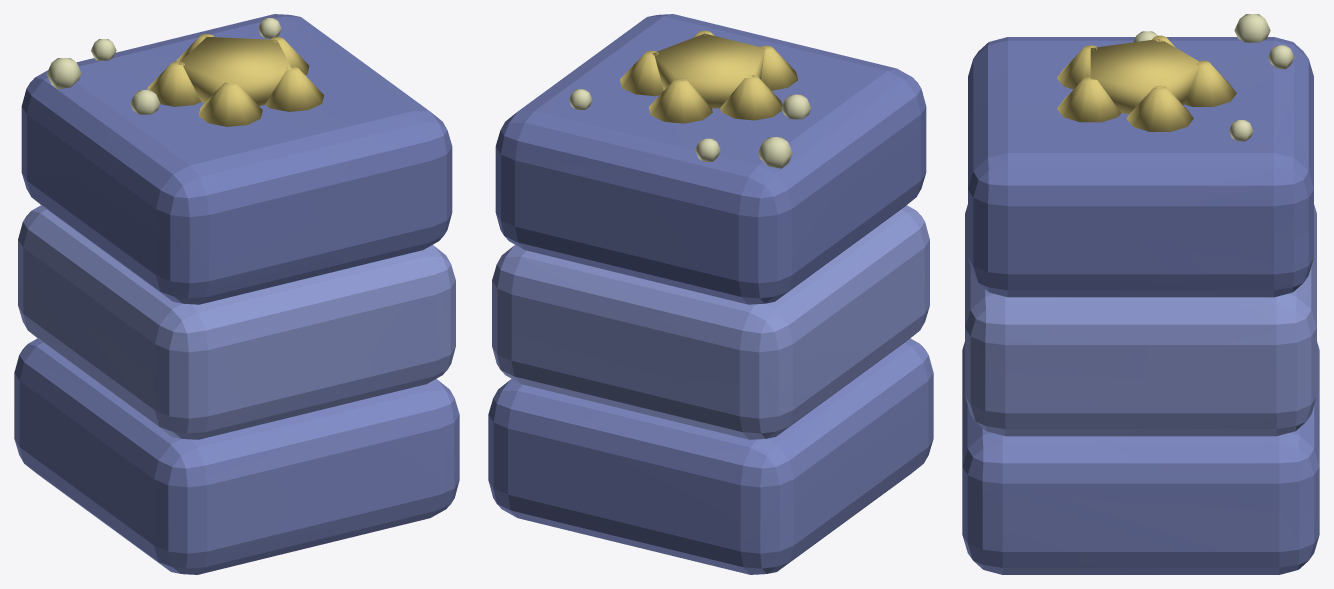
File: gym_wall_temple_lite.glb
3 views of the same model, side by side, from view 1: azimuth 30°, elevation 25°; view 2: azimuth 150°, elevation 25°; view 3: azimuth 270°, elevation 25° (orthographic). The views are drawn at different scales.
Visible parts, largest first — view 1: Cube; view 2: Cube; view 3: Cube.
Part boxes in pixels (x1=…): Cube: x1=14, y1=14, x2=459, y2=574; Cube: x1=488, y1=14, x2=933, y2=574; Cube: x1=962, y1=14, x2=1319, y2=574.
Size of the model in its own units: 1.96 by 2.72 by 1.96.
